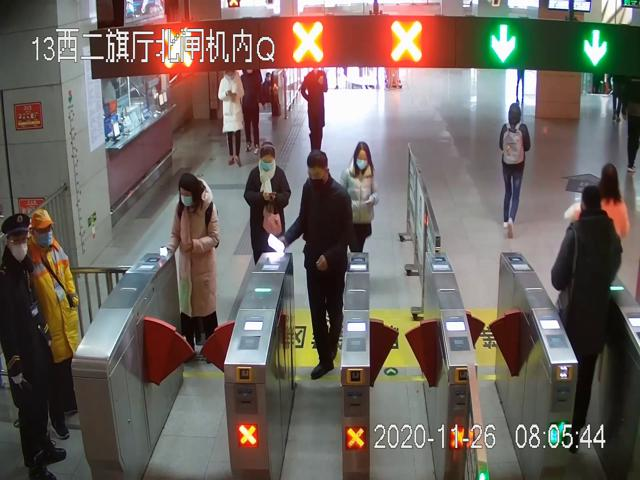person: (0, 213, 67, 480), (289, 151, 353, 381), (25, 209, 83, 440), (161, 173, 221, 365), (243, 142, 292, 267), (342, 141, 379, 255), (500, 103, 530, 236)
